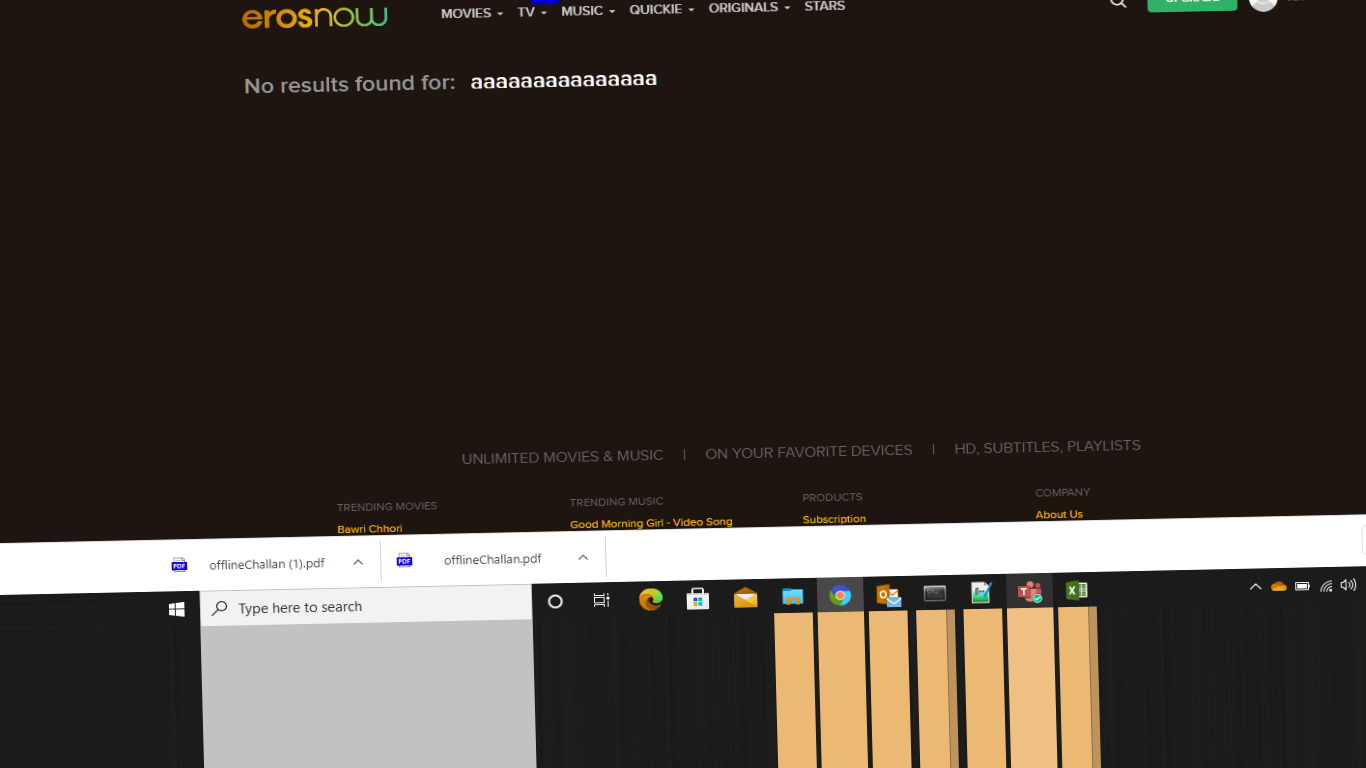noresultsfound: (226, 63, 682, 123), (1104, 1, 1138, 22)
